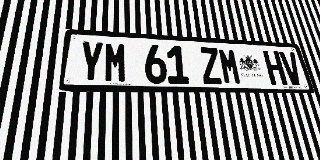1: (165, 45, 189, 84)
6: (144, 44, 168, 84)
H: (262, 50, 288, 85)
M: (104, 42, 127, 83), (218, 48, 242, 85)
V: (279, 51, 304, 86)
Y: (78, 40, 104, 83)
Z: (199, 47, 223, 84)
